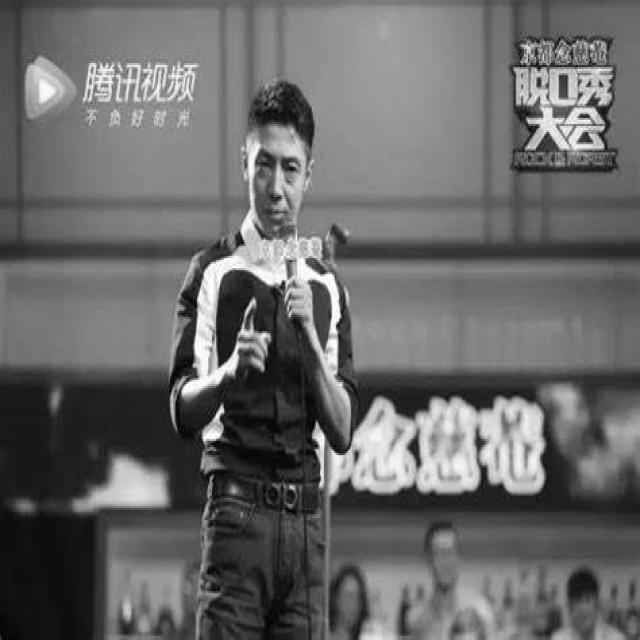stand: (188, 70, 350, 637)
